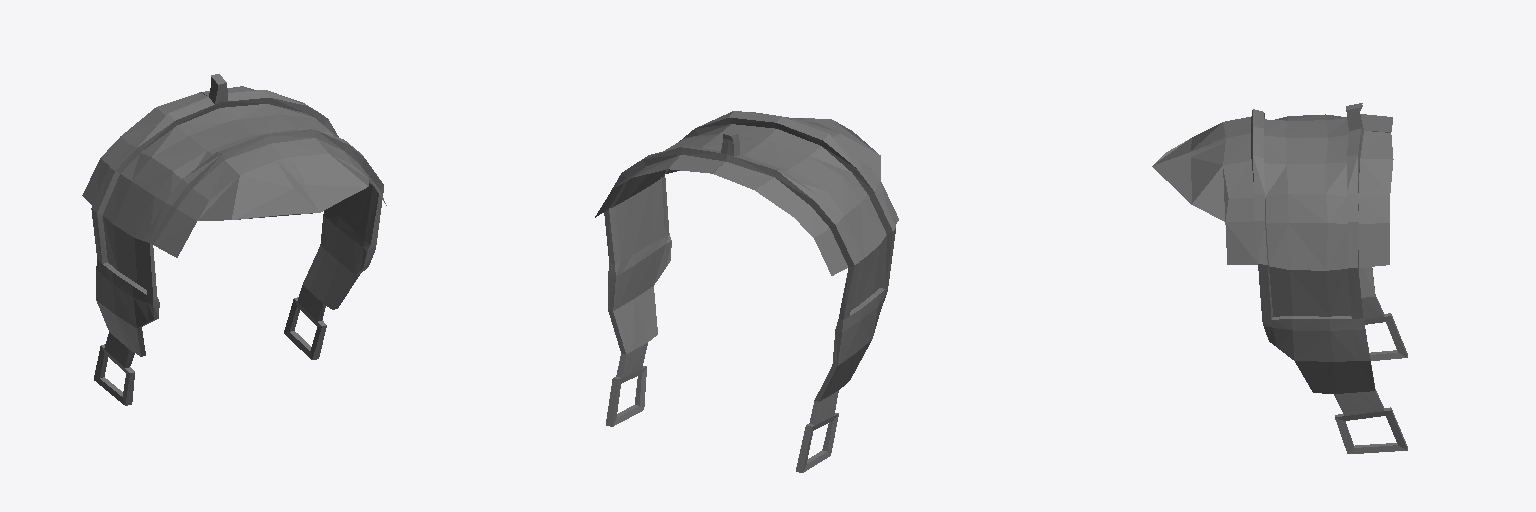
The model's file is seat_horse.obj.
The picture shows the model from 3 angles: view 1: azimuth 30°, elevation 25°; view 2: azimuth 150°, elevation 25°; view 3: azimuth 270°, elevation 25°; orthographic projection.
Parts seen in each view (by area): view 1: sadle Geo_Grp; view 2: sadle Geo_Grp; view 3: sadle Geo_Grp.
Boxes of the visible parts, x1=… form: sadle Geo_Grp: x1=82, y1=74, x2=386, y2=405; sadle Geo_Grp: x1=595, y1=111, x2=898, y2=472; sadle Geo_Grp: x1=1152, y1=103, x2=1407, y2=453.
Size of the model in its own units: 6.22 by 7.16 by 5.49.